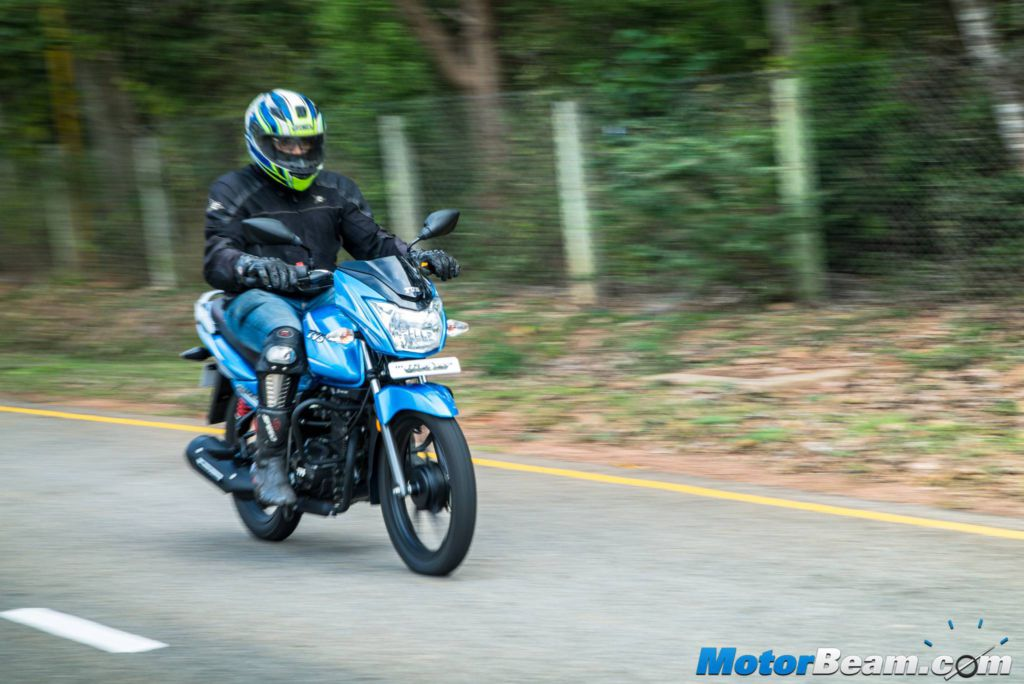helmet: (241, 84, 333, 197)
